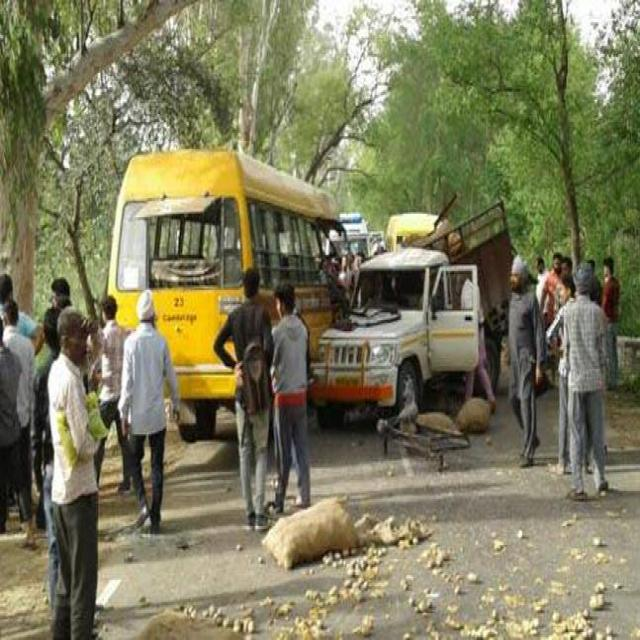accident: (108, 152, 349, 440), (310, 248, 481, 424)
